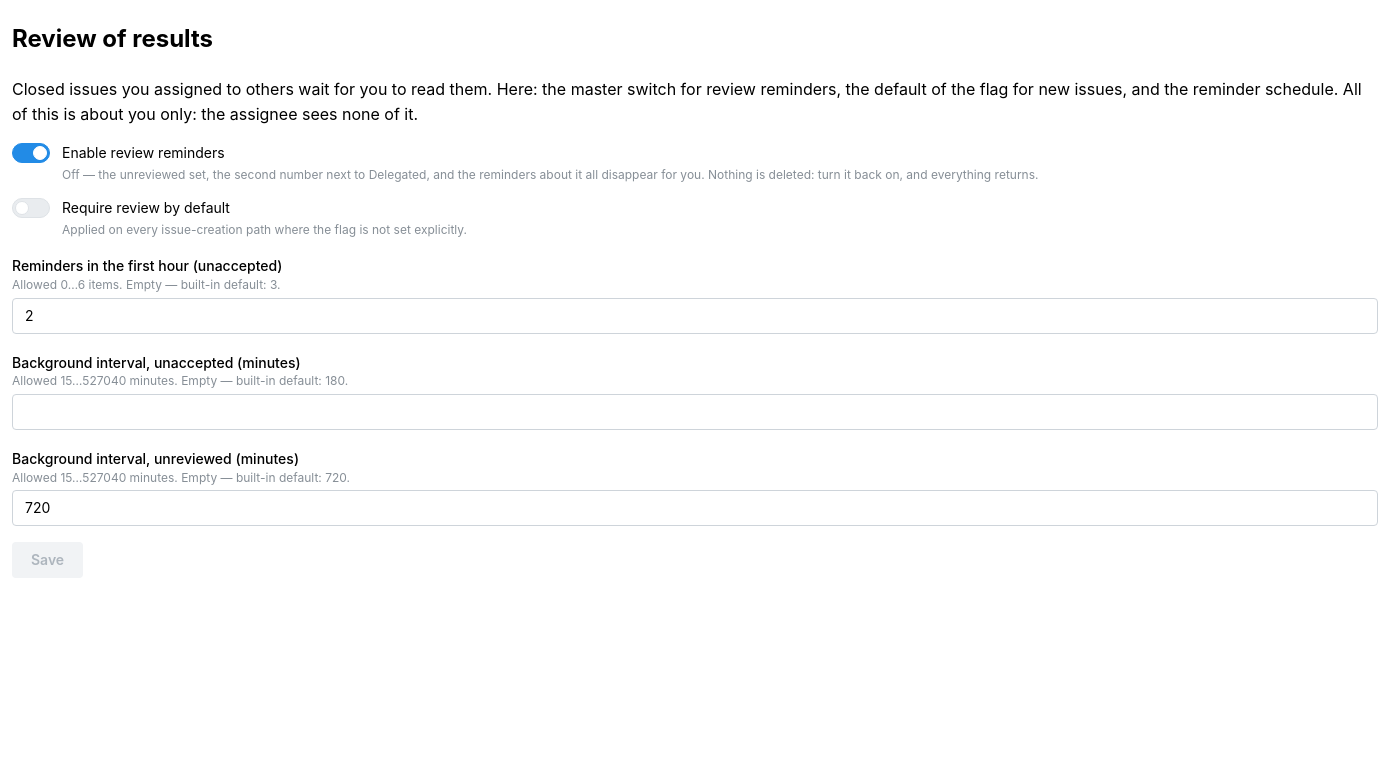
row 104 — the form reads and saves ALL FIVE settings › saves: the form re-renders from the server answer, not from its own guess
Step 1. Replace the text in the field with test id "review-burst-count" with "5" → (695, 316), box [12,298,1377,334]
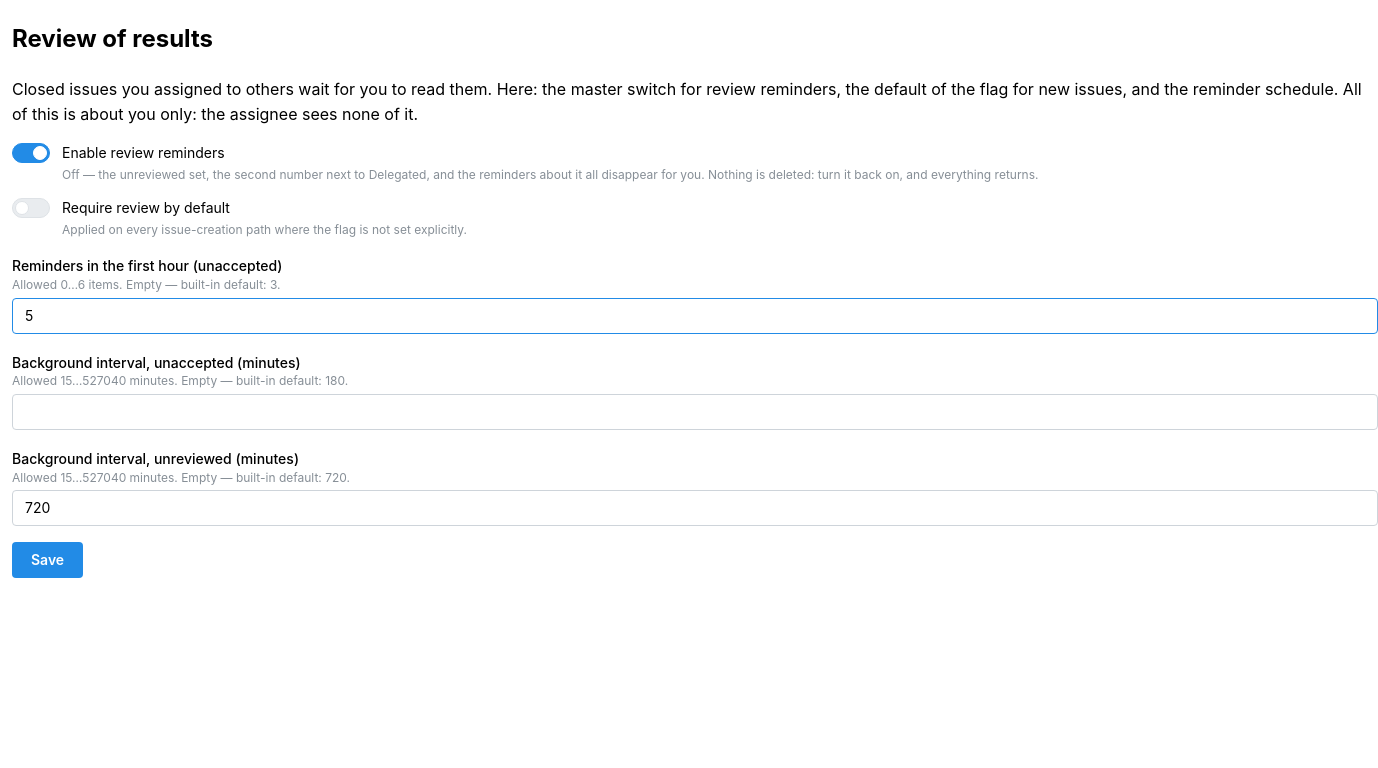
Step 2. Click the button with aria-label "Save review settings" → (48, 560), box [12,542,83,578]
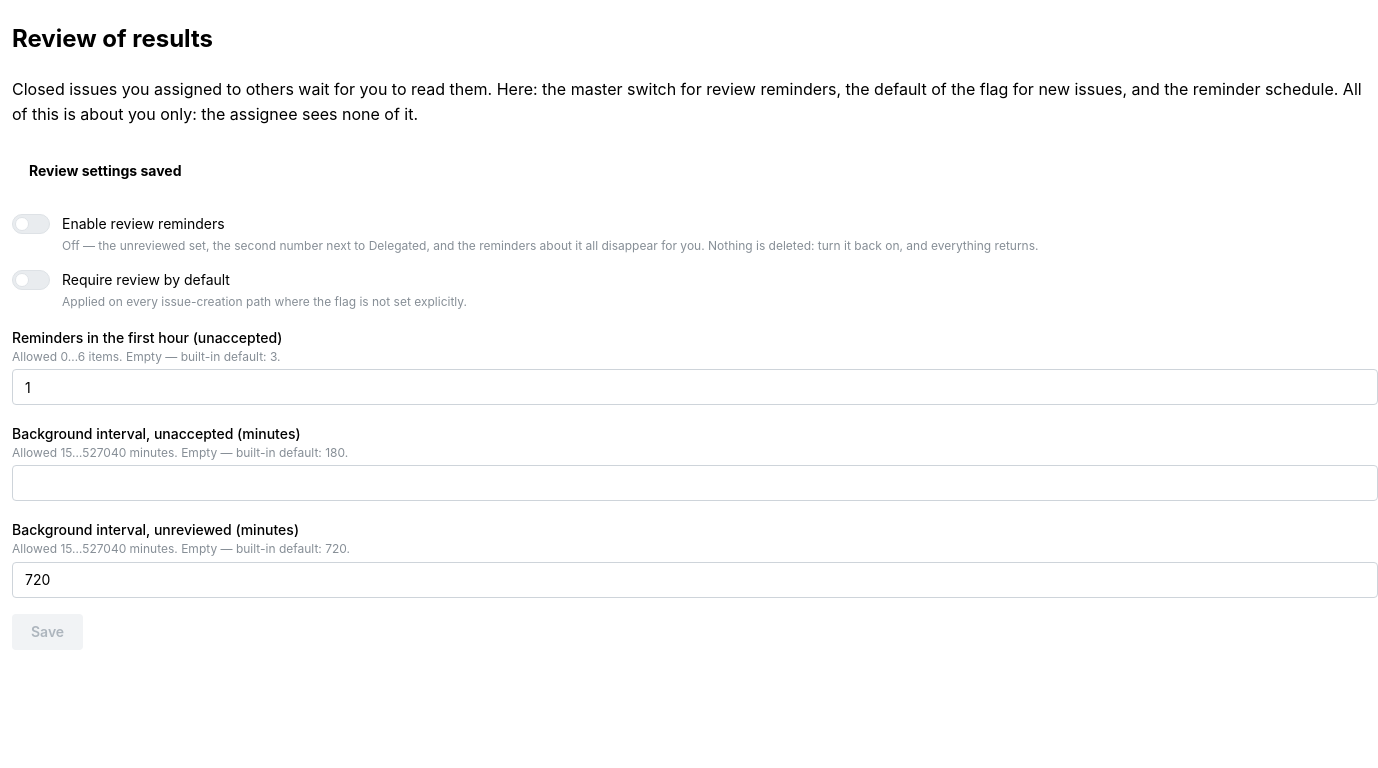
Expected: the field with test id "review-burst-count" holds "1", [12,369,1377,405]
Expected: the switch with test id "review-mechanic-enabled" is not checked, [12,214,1038,253]
Expected: the text "Review settings saved" is shown, [29,160,182,181]
